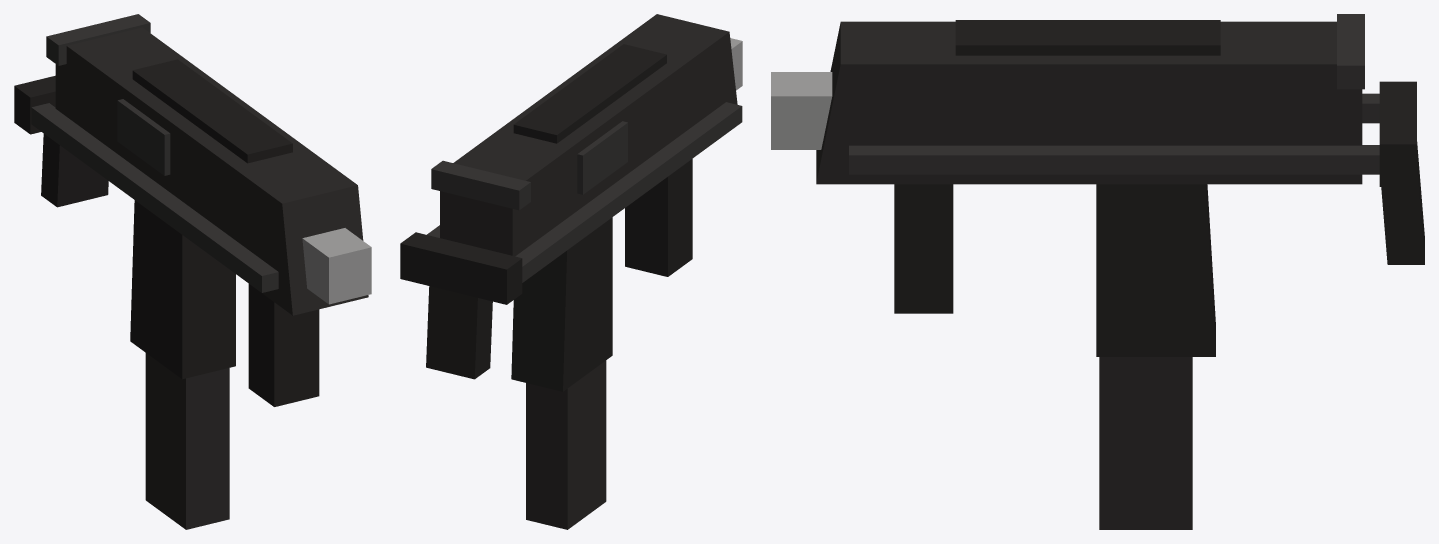
Rendered from TSMG.FBX.
3 renders of one model, left to right at view 1: azimuth 30°, elevation 25°; view 2: azimuth 150°, elevation 25°; view 3: azimuth 270°, elevation 25°, orthographic. The views are drawn at different scales.
Parts seen in each view (by area): view 1: TSMG, TMPmag, TSMGstock; view 2: TSMG, TSMGstock, TMPmag; view 3: TSMG, TSMGstock, TMPmag.
Part boxes in pixels (bbox=[...]): TSMG: bbox=[46, 14, 371, 406]; TMPmag: bbox=[145, 353, 229, 529]; TSMGstock: bbox=[14, 75, 278, 292]; TSMG: bbox=[431, 14, 742, 391]; TSMGstock: bbox=[400, 102, 742, 379]; TMPmag: bbox=[526, 360, 606, 529]; TSMG: bbox=[771, 14, 1364, 356]; TSMGstock: bbox=[849, 81, 1424, 264]; TMPmag: bbox=[1099, 357, 1192, 529].
Bounding box in the file's own units: 18.3 × 80.86 × 66.21.
